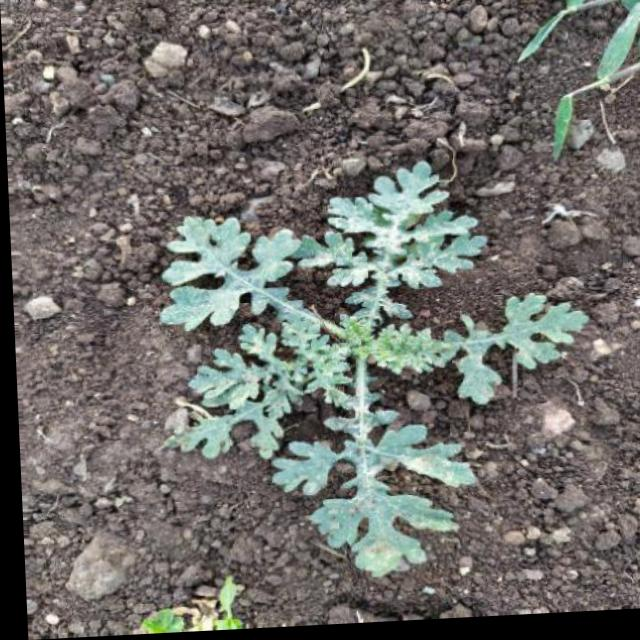weed: (131, 155, 595, 582)
